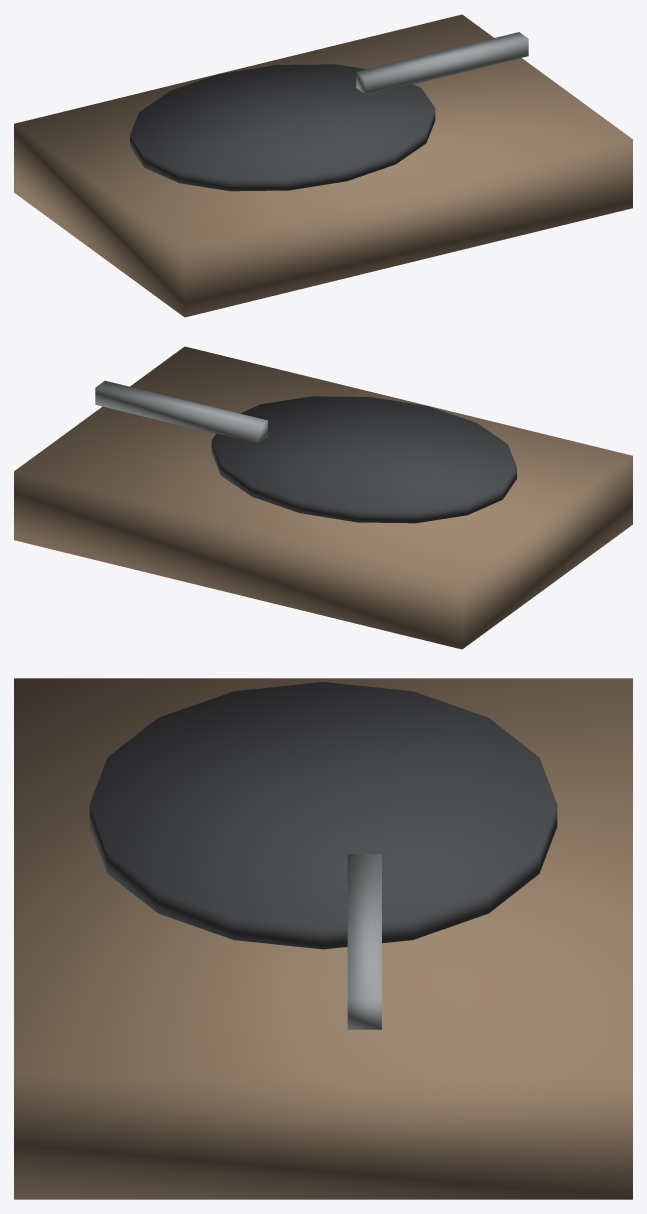
The model's file is record_player__wide.glb.
3 renders of one model, top to bottom at view 1: azimuth 30°, elevation 25°; view 2: azimuth 150°, elevation 25°; view 3: azimuth 270°, elevation 25°, orthographic. The views are drawn at different scales.
Visible parts, largest first — view 1: world; view 2: world; view 3: world.
Part boxes in pixels (x1,y1,x2,y2): world: (14, 14, 632, 317); world: (14, 346, 632, 649); world: (14, 678, 632, 1199).
Size of the model in its own units: 0.682 by 0.1525 by 0.45.
